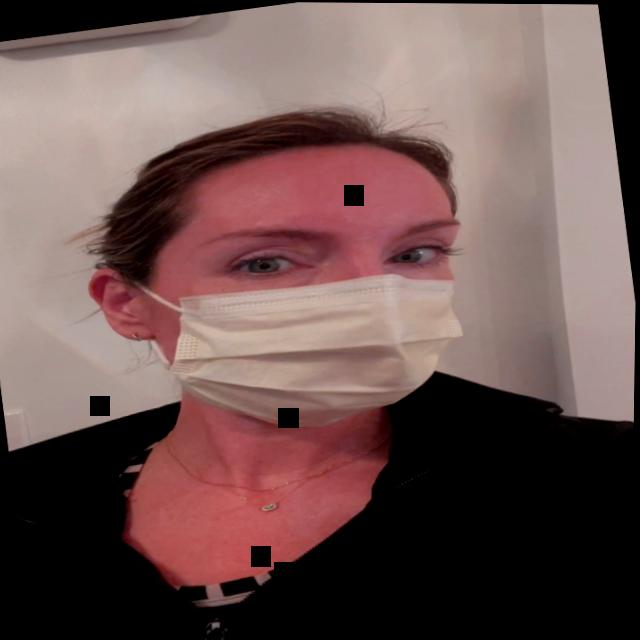Mask: (61, 110, 506, 485)
